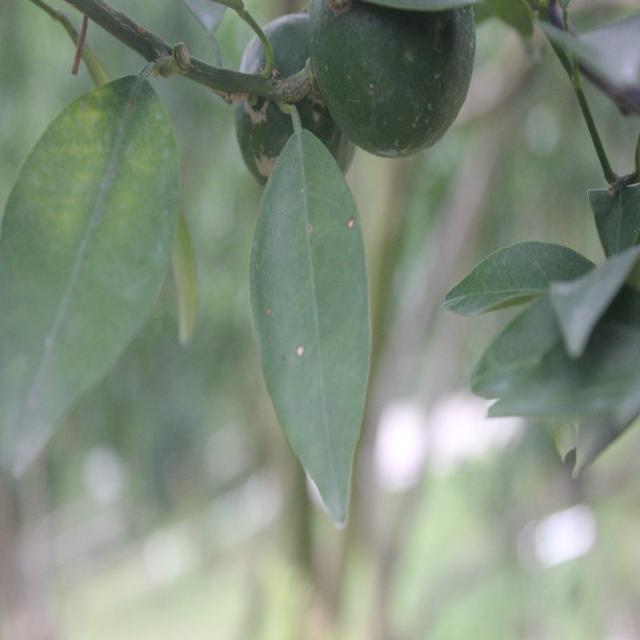canker: (270, 206, 359, 392)
